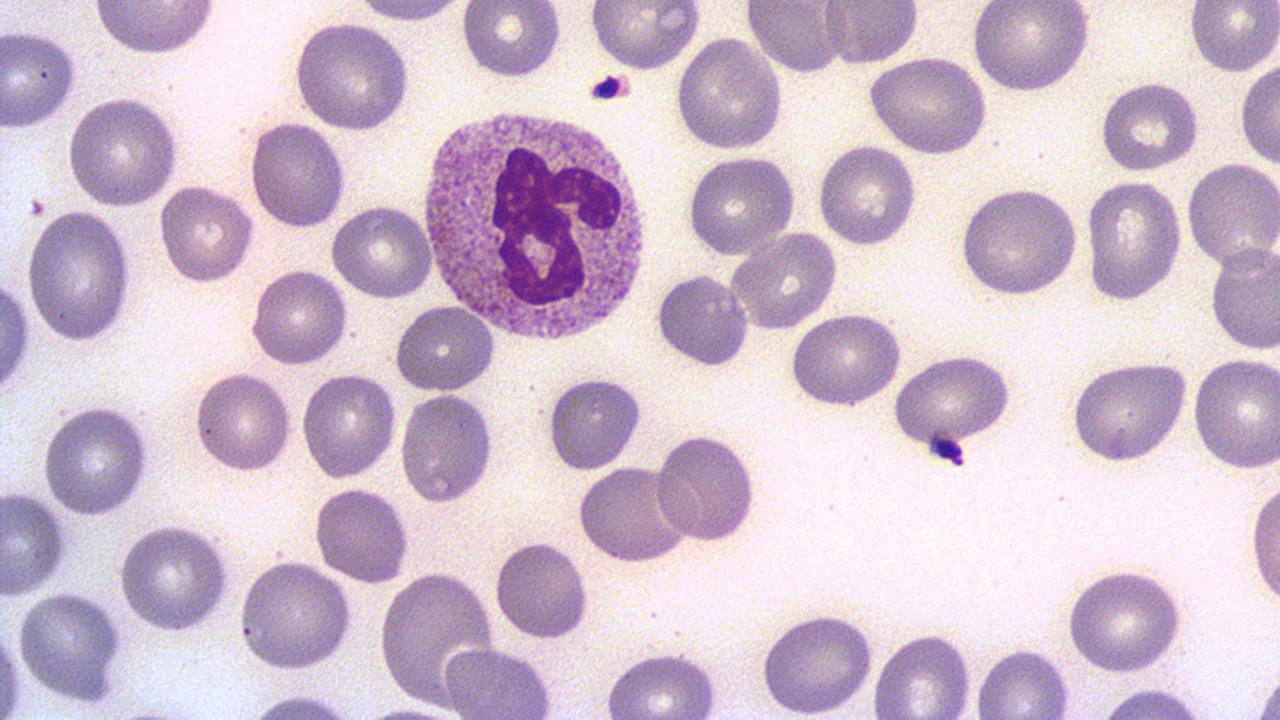Platelets: (926, 425, 965, 468)
RBC: (376, 568, 498, 714), (25, 206, 137, 344), (956, 184, 1081, 300), (237, 555, 355, 675), (291, 19, 414, 133), (1063, 563, 1187, 676), (64, 94, 183, 208), (116, 520, 232, 636), (756, 608, 878, 716), (1068, 356, 1190, 464), (1082, 176, 1186, 302), (672, 35, 784, 152), (42, 400, 153, 518), (864, 54, 989, 157), (891, 352, 1017, 454), (653, 428, 762, 544), (575, 457, 692, 564), (787, 308, 907, 412), (15, 588, 125, 700), (684, 152, 798, 258), (970, 1, 1095, 95), (399, 390, 500, 506), (246, 119, 349, 231), (814, 140, 920, 248), (192, 366, 294, 476), (300, 370, 398, 482), (1189, 352, 1280, 471), (156, 180, 257, 287), (329, 202, 438, 301), (492, 538, 594, 641), (248, 265, 351, 367), (654, 268, 756, 370), (1189, 159, 1280, 273), (543, 372, 645, 473), (310, 484, 412, 584), (1096, 78, 1204, 172), (392, 301, 500, 394), (870, 627, 978, 717), (440, 644, 560, 718), (1, 25, 80, 135), (600, 649, 726, 717), (588, 1, 705, 73), (460, 2, 564, 80), (744, 0, 852, 75), (0, 488, 69, 600), (1208, 245, 1280, 352), (91, 0, 219, 59), (974, 645, 1075, 717), (1187, 0, 1277, 74), (820, 1, 922, 66), (2, 262, 34, 418), (1236, 60, 1280, 170), (1246, 473, 1280, 610), (350, 0, 468, 26)
WBC: (418, 99, 658, 353)
